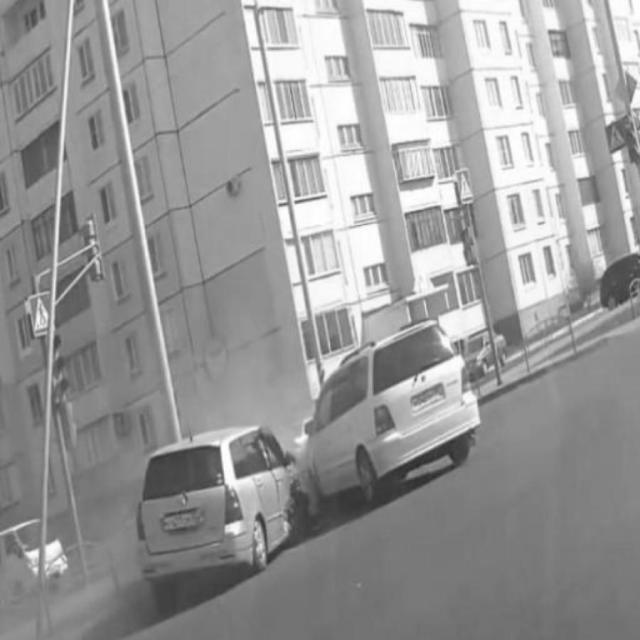accident: (134, 325, 480, 578)
